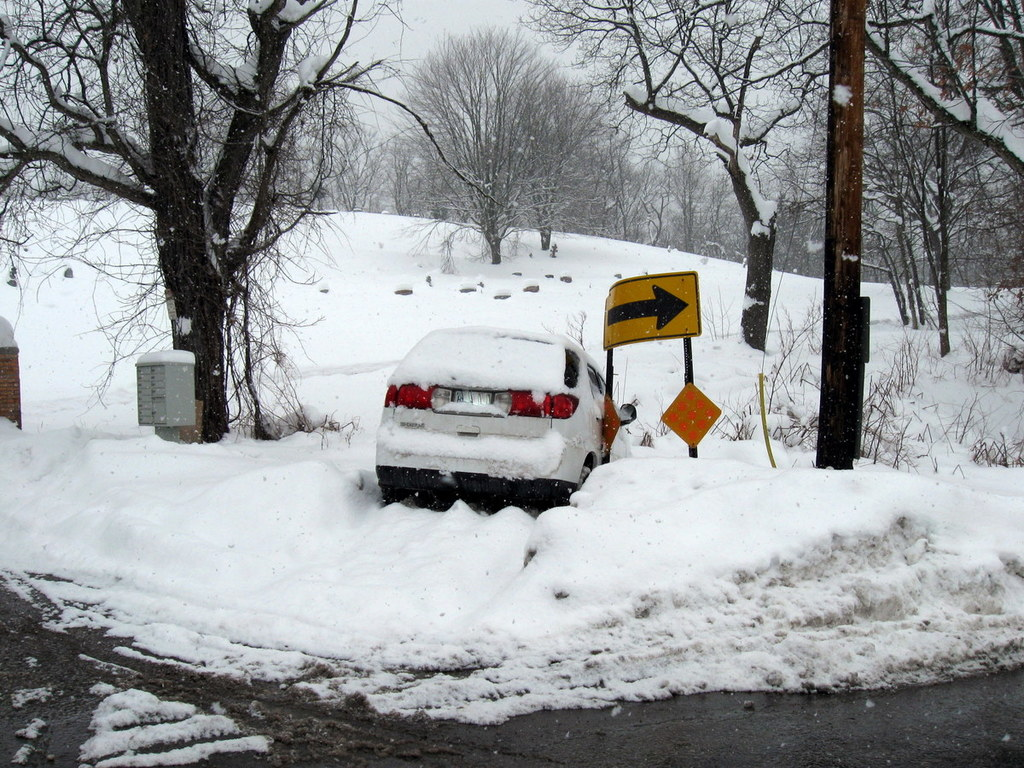Car: (368, 324, 639, 512)
